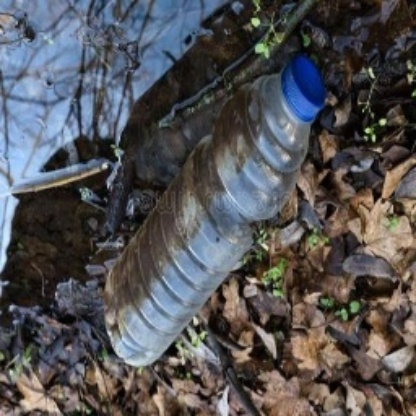bottle: (101, 55, 329, 370)
